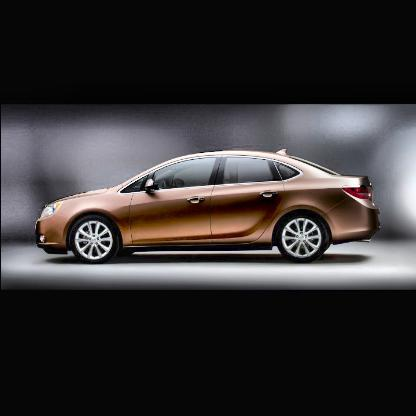Buick Verano Sedan 2012: (35, 148, 381, 264)
